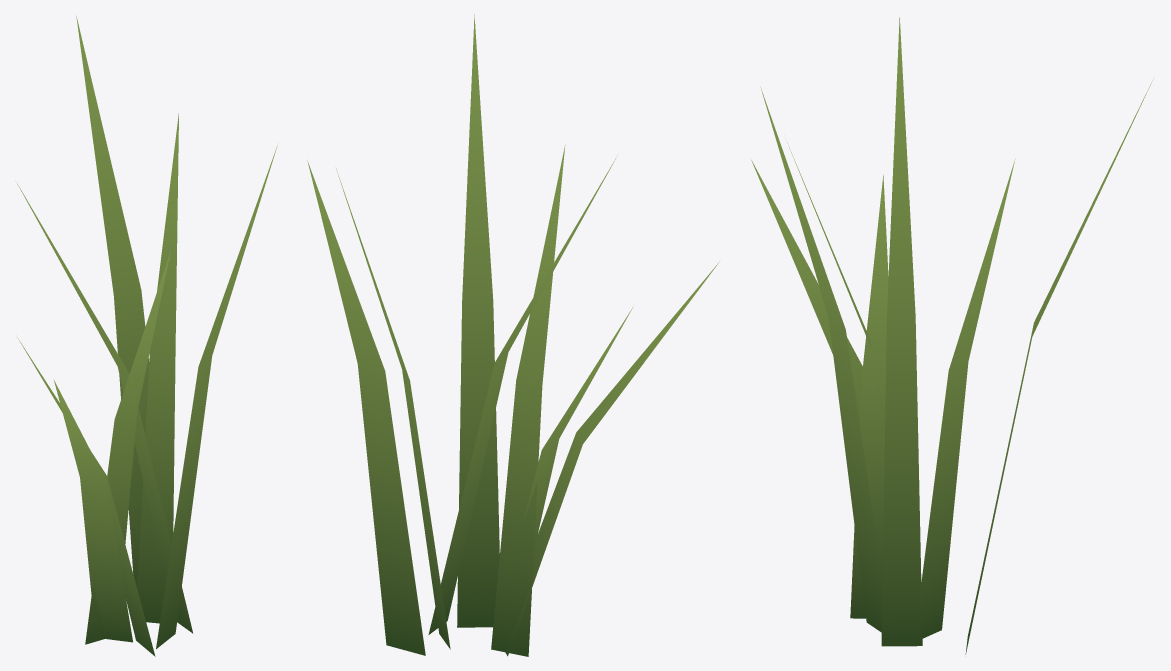
The model's file is grass.glb.
3 views of the same model, side by side, from view 1: azimuth 30°, elevation 25°; view 2: azimuth 150°, elevation 25°; view 3: azimuth 270°, elevation 25° (orthographic). The views are drawn at different scales.
Parts seen in each view (by area): view 1: grass; view 2: grass; view 3: grass.
Boxes of the visible parts, box(x1,y1,x2,y2) form: grass: box(16, 16, 277, 656); grass: box(307, 14, 719, 656); grass: box(750, 17, 1153, 654).
Size of the model in its own units: 0.1562 by 0.319 by 0.2032.
